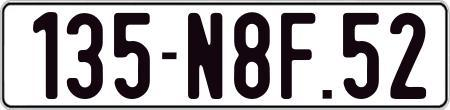1: (31, 12, 55, 99)
2: (389, 12, 426, 103)
3: (67, 13, 105, 100)
5: (113, 12, 155, 102), (342, 12, 381, 101)
8: (234, 9, 270, 97)
F: (279, 13, 319, 102)
N: (187, 13, 221, 101)
